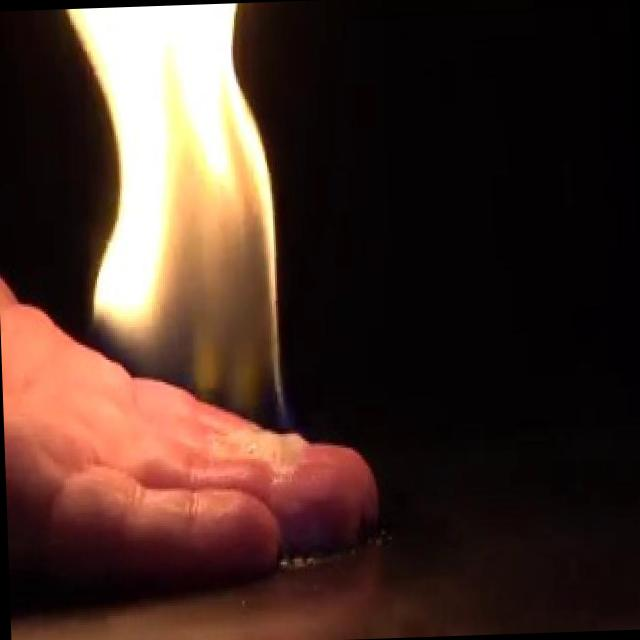Fire: (52, 1, 292, 438)
